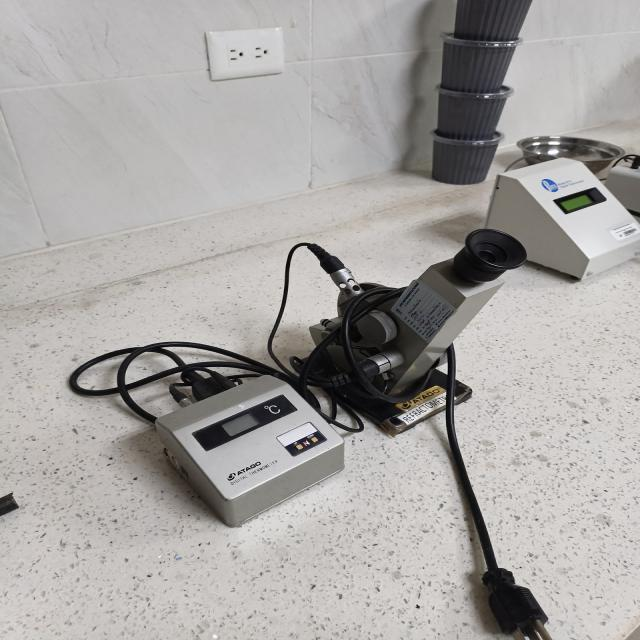Refractometro Digital Abbe de Mesa: (69, 228, 527, 526)
